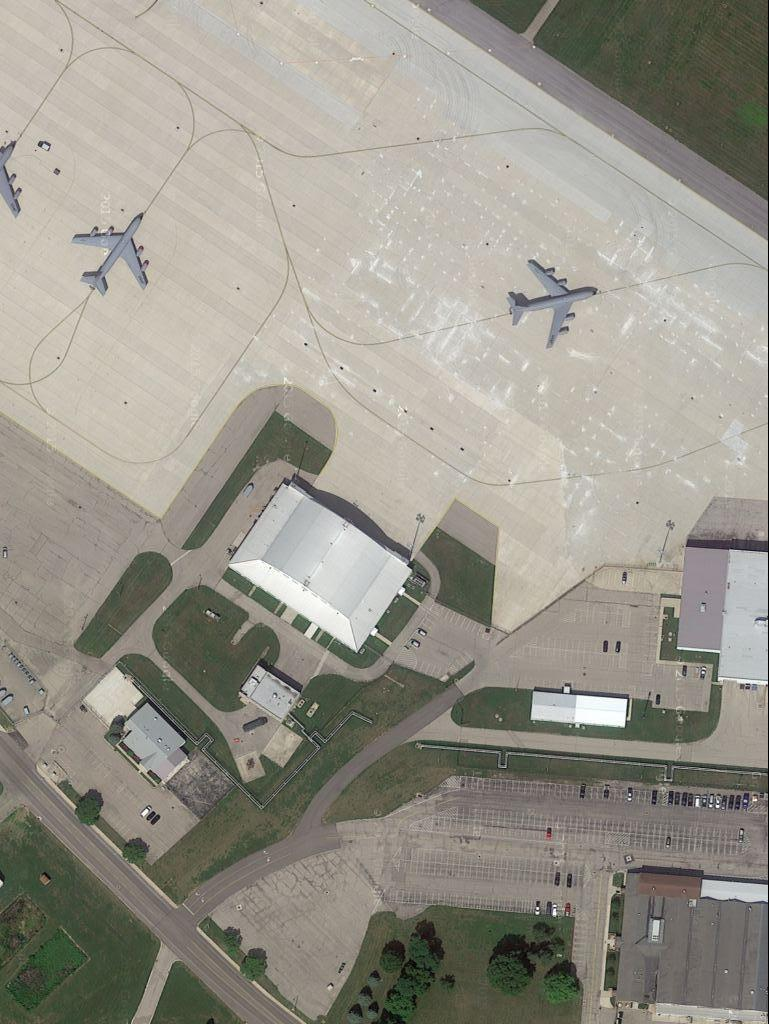KC-135: (504, 259, 600, 354), (73, 210, 153, 298)
